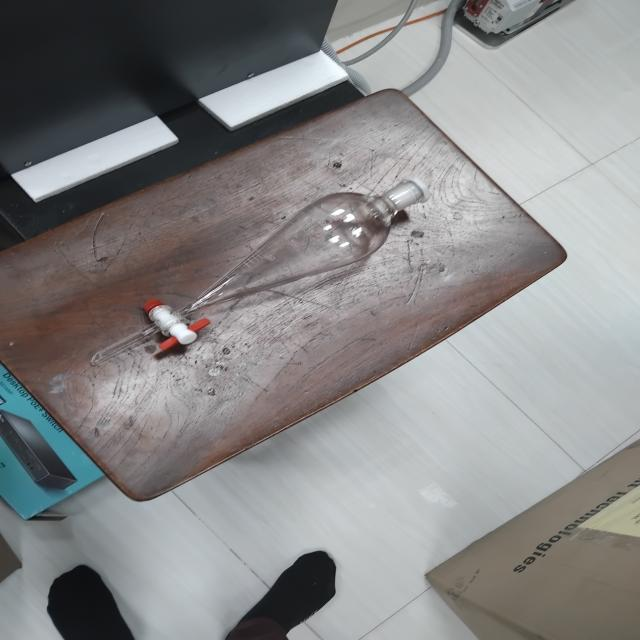Separating_Funnel: (59, 170, 448, 372)
